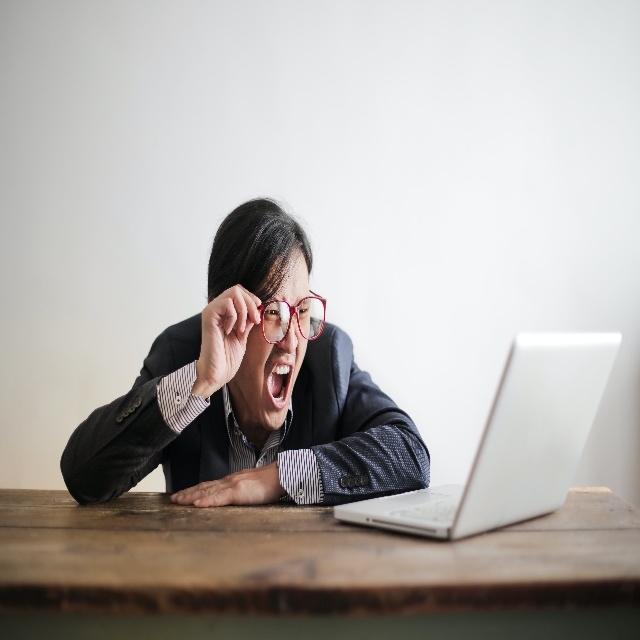Gafas: (259, 288, 327, 344)
Sin_guantes: (198, 283, 261, 396), (170, 464, 277, 509)
